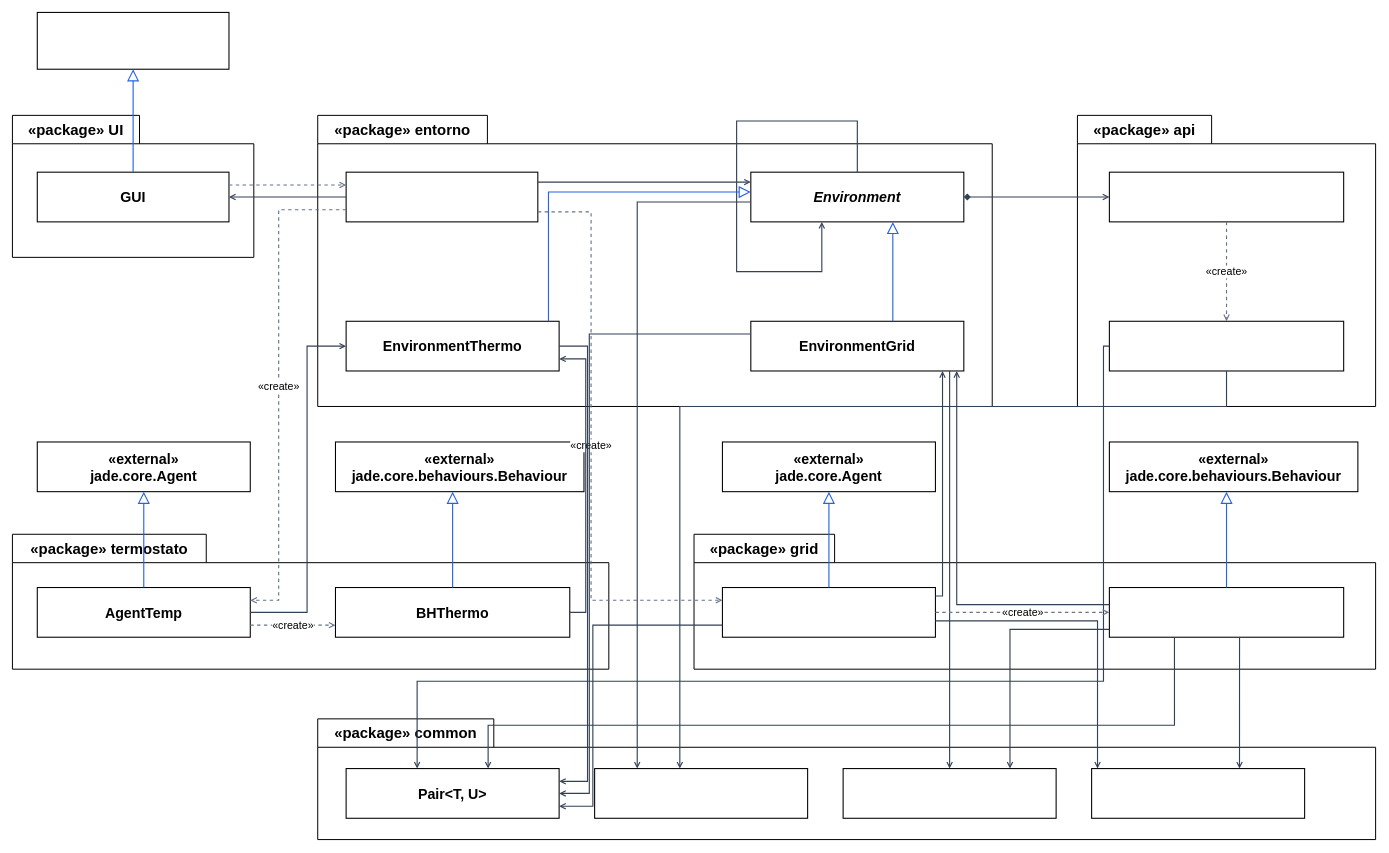
Some shapes in this 1389 by 853 pixel diagram are drawn without their labels. The shapes that lost their labels are listed below. From the top down, each one's centre as x and y in pixels, then its label:
At (x=132, y=40): "«external» javax.swing.JFrame".
At (x=441, y=196): "Main".
At (x=1226, y=196): "ConexAPI".
At (x=1226, y=345): "ResponseLAB".
At (x=829, y=612): "AgentGrid".
At (x=1226, y=612): "BHGrid".
At (x=701, y=793): "«enumeration» RunStatus".
At (x=949, y=793): "«enumeration» CellType".
At (x=1198, y=793): "«enumeration» Direction".
